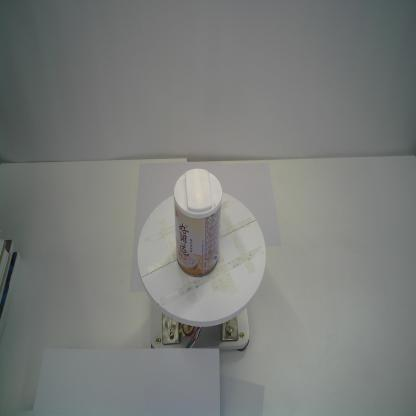Canned Food: (171, 165, 225, 281)
